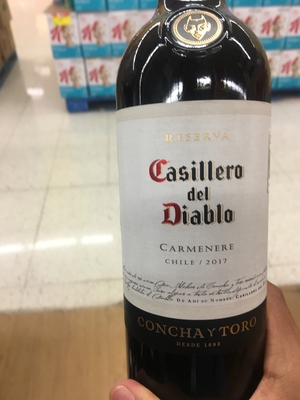casillero del diablo carmenere: (117, 9, 289, 400)
